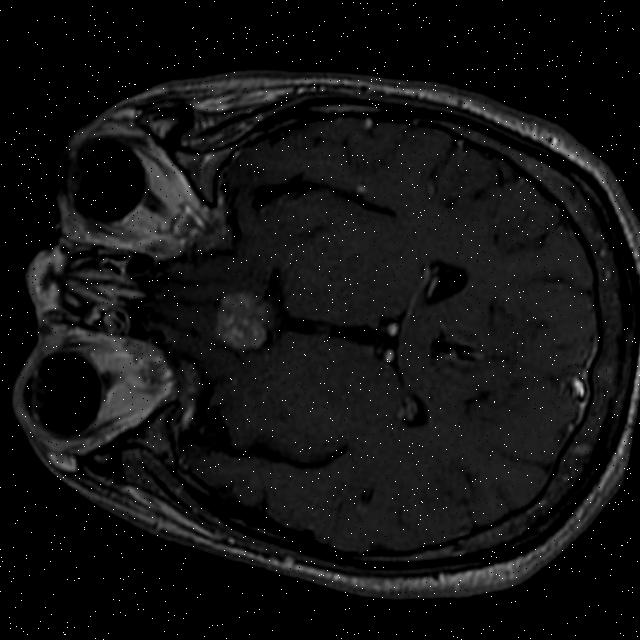Pituitary: (208, 286, 276, 357)
